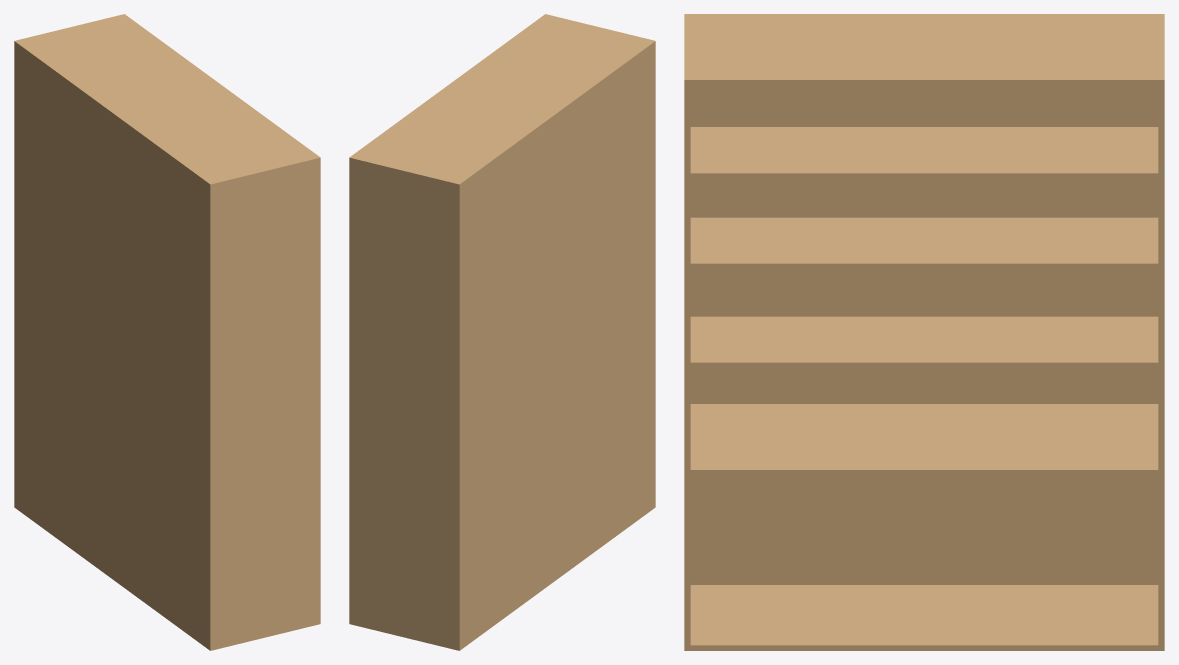
File: armoire.dae
3 views of the same model, side by side, from view 1: azimuth 30°, elevation 25°; view 2: azimuth 150°, elevation 25°; view 3: azimuth 270°, elevation 25° (orthographic). The views are drawn at different scales.
Visible parts, largest first — view 1: node; view 2: node; view 3: node.
Boxes of the visible parts, x1,y1,x2,y2 form: node: [14, 14, 320, 650]; node: [349, 14, 655, 650]; node: [684, 14, 1164, 650].
Size of the model in its own units: 0.5 by 1.54 by 2.02.
